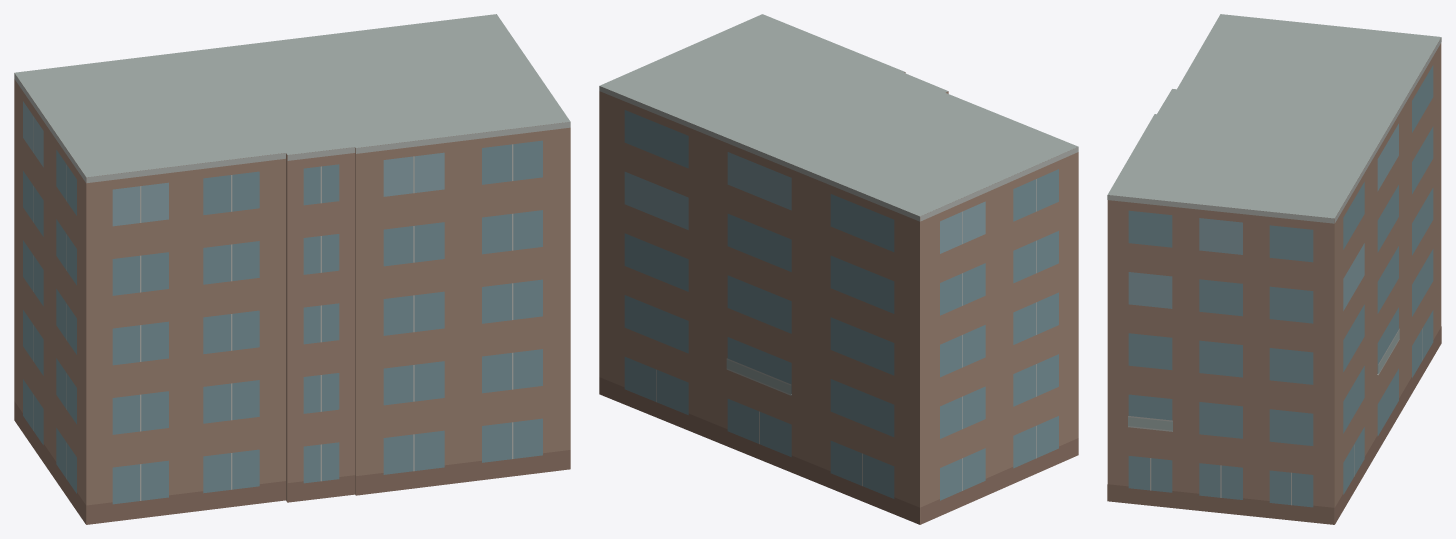
Rendered from survey-upis-32860708.glb.
The picture shows the model from 3 angles, left to right: view 1: azimuth 30°, elevation 25°; view 2: azimuth 150°, elevation 25°; view 3: azimuth 270°, elevation 25°; orthographic projection. The views are drawn at different scales.
Parts seen in each view (by area): view 1: survey-upis-32860708.tmp; view 2: survey-upis-32860708.tmp; view 3: survey-upis-32860708.tmp.
Part boxes in pixels (x1,y1,x2,y2): survey-upis-32860708.tmp: (14, 14, 570, 524); survey-upis-32860708.tmp: (599, 14, 1078, 524); survey-upis-32860708.tmp: (1107, 14, 1441, 524).
Size of the model in its own units: 20.62 by 14.4 by 14.24.
